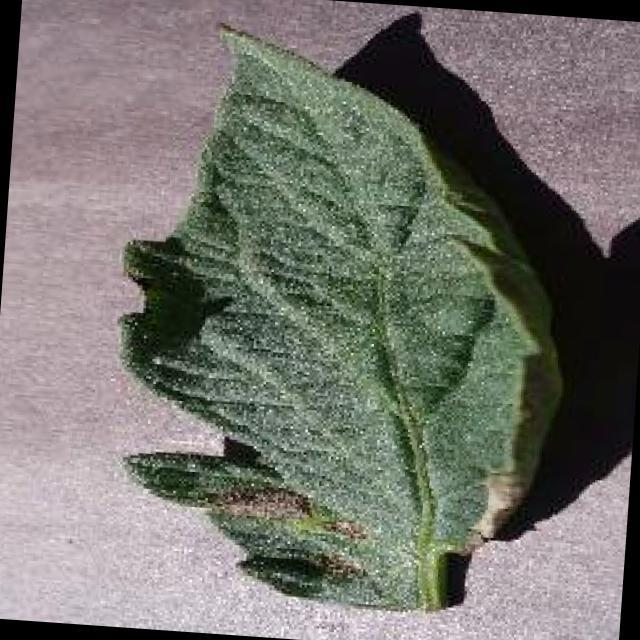Tomato Early blight leaf: (101, 20, 574, 622)
